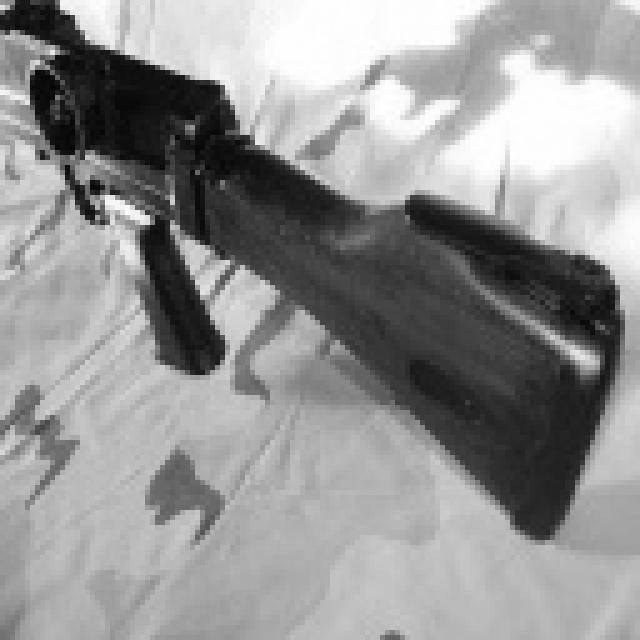Rifle: (3, 5, 640, 578)
